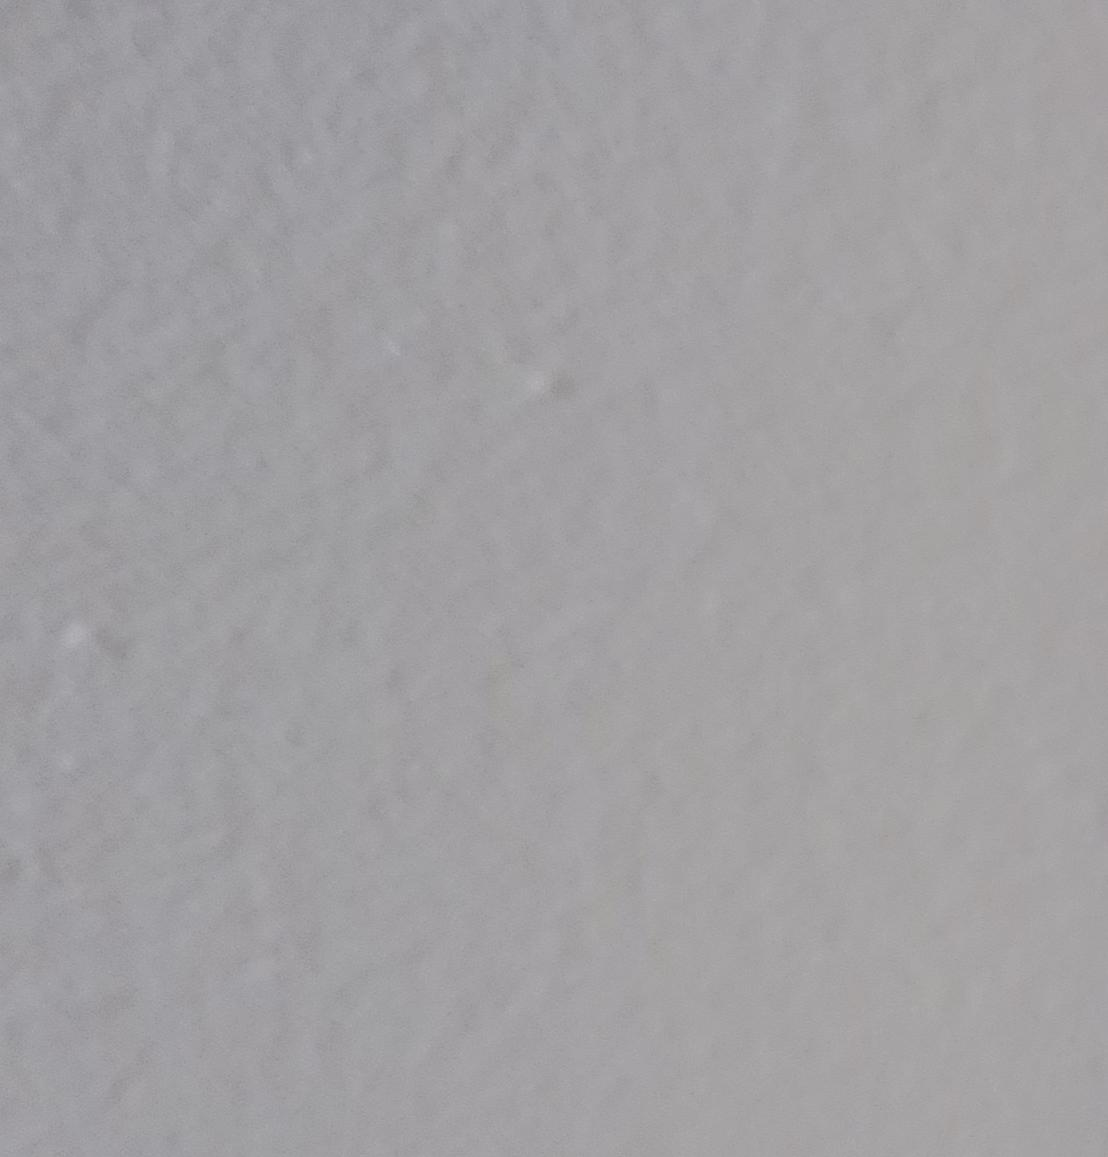Chip: (1, 325, 793, 1157)
